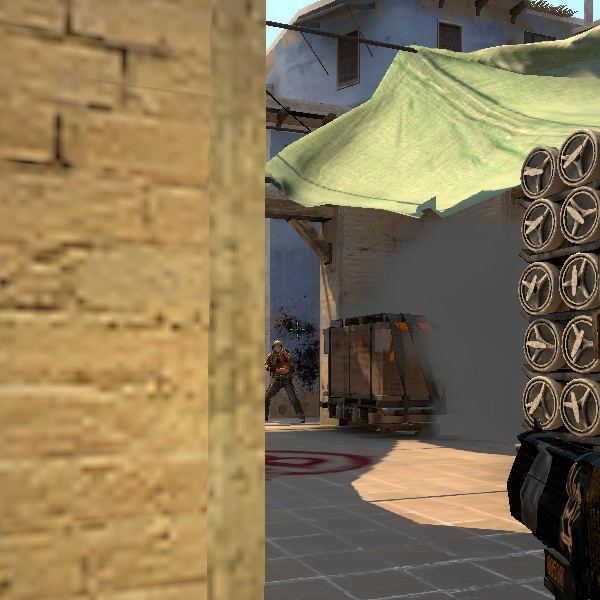t_body: (257, 335, 303, 422)
